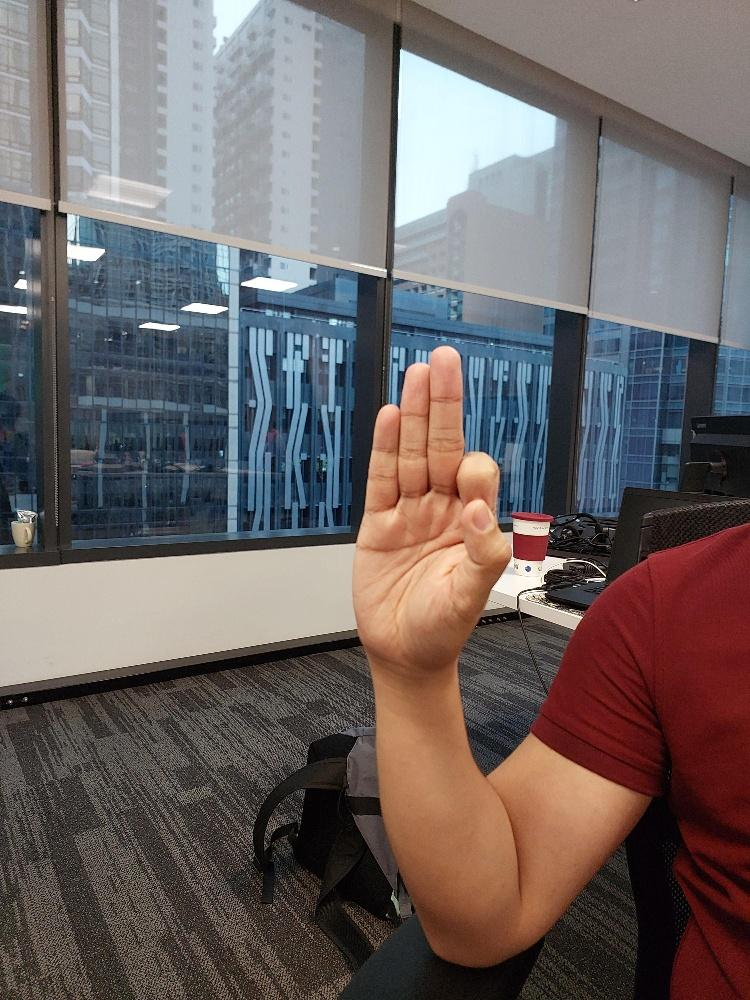f: (348, 341, 514, 673)
